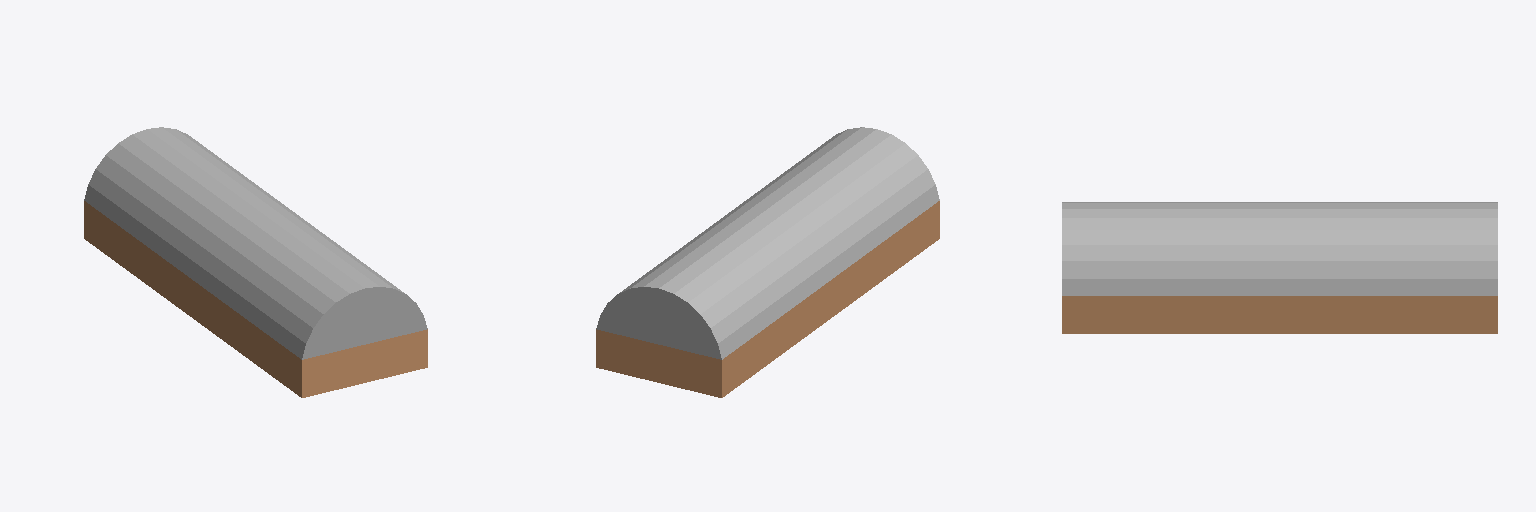
Rendered from glMap.obj.
3 renders of one model, left to right at view 1: azimuth 30°, elevation 25°; view 2: azimuth 150°, elevation 25°; view 3: azimuth 270°, elevation 25°, orthographic.
Parts seen in each view (by area): view 1: Mesh1 Model; view 2: Mesh1 Model; view 3: Mesh1 Model.
Boxes of the visible parts, x1=… form: Mesh1 Model: x1=84, y1=127, x2=427, y2=397; Mesh1 Model: x1=596, y1=127, x2=939, y2=397; Mesh1 Model: x1=1062, y1=202, x2=1497, y2=333.
Bounding box in the file's own units: 6 × 4.31 × 18.